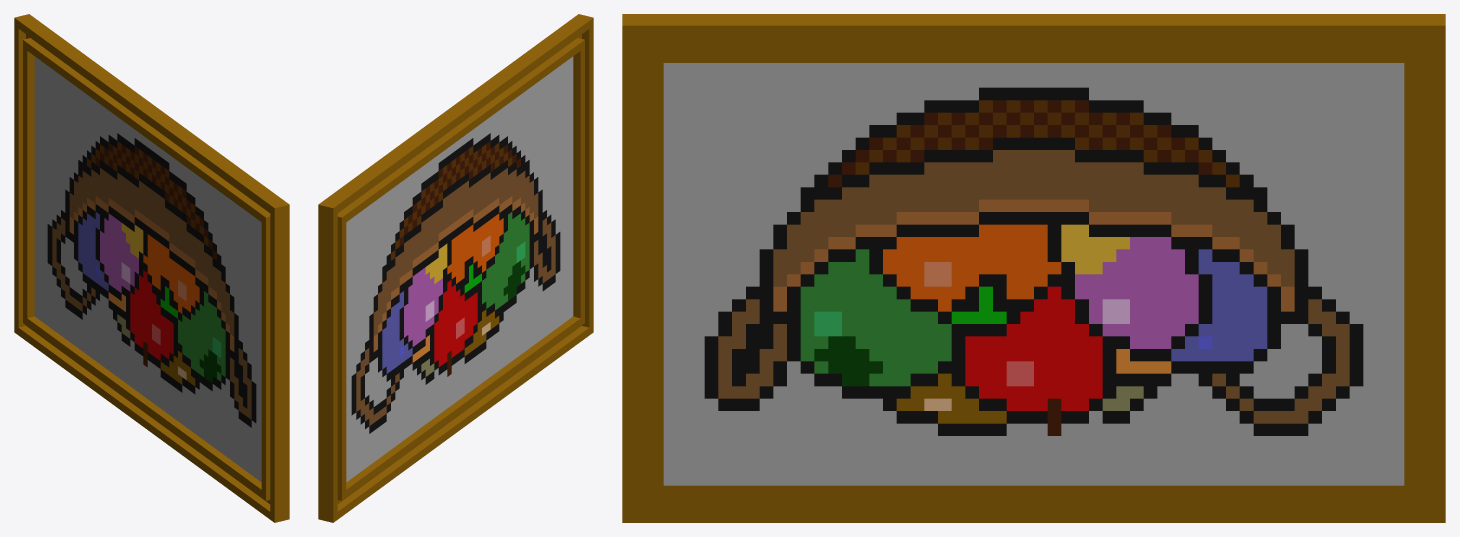
The model's file is Painting-3.obj.
3 renders of one model, left to right at view 1: azimuth 30°, elevation 25°; view 2: azimuth 150°, elevation 25°; view 3: azimuth 270°, elevation 25°, orthographic. The views are drawn at different scales.
Parts seen in each view (by area): view 1: Painting-3; view 2: Painting-3; view 3: Painting-3.
Part boxes in pixels (x1=…): Painting-3: x1=14, y1=14, x2=289, y2=522; Painting-3: x1=318, y1=14, x2=593, y2=522; Painting-3: x1=622, y1=14, x2=1445, y2=522.
Bounding box in the file's own units: 2 × 40 × 60.
Materials: 1 (1 with a texture image).
